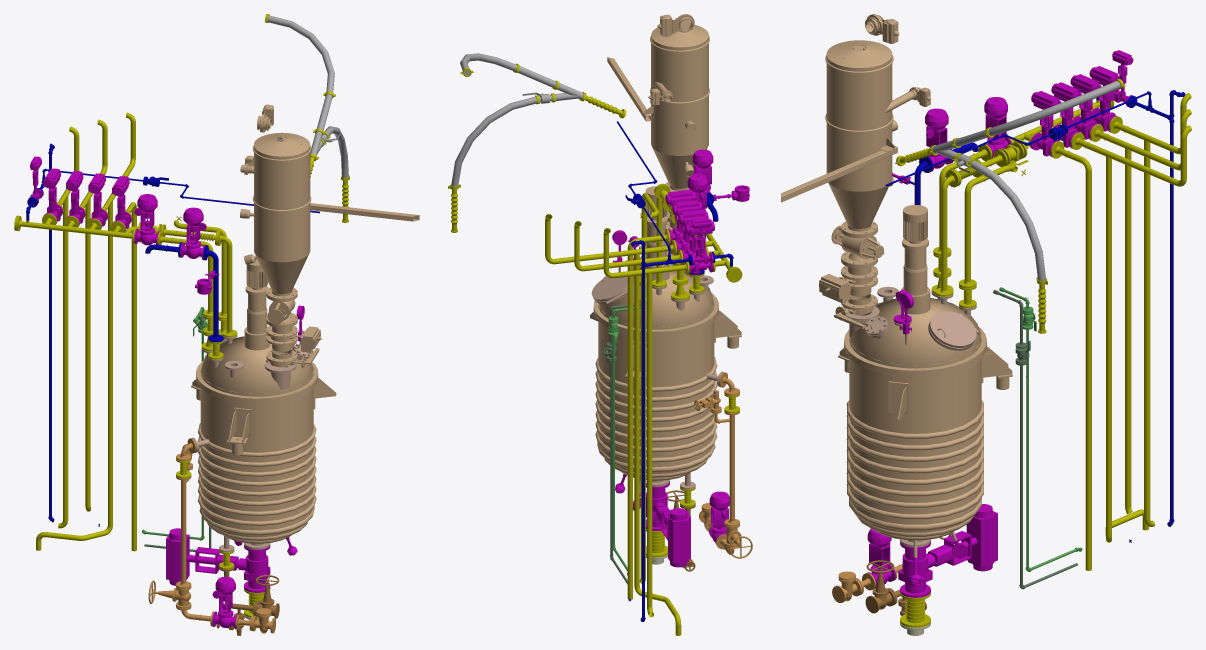
The picture shows the model from 3 angles, left to right: view 1: azimuth 30°, elevation 25°; view 2: azimuth 150°, elevation 25°; view 3: azimuth 270°, elevation 25°; orthographic projection. The views are drawn at different scales.
Visible parts, largest first — view 1: CYLINDER 1 of SUBEQUIPMENT 5 of EQUIPMENT /M-5201, /U-5201/B181, DISH 2 of SUBEQUIPMENT 5 of EQUIPMENT /M-5201, /XV-M5201-101, Цилиндр.013, Цилиндр.048, Цилиндр.053, Цилиндр.043, CYLINDER 2 of SUBEQUIPMENT 5 of EQUIPMENT /M-5201, /U-5201/B185, /U-5201/B207, /WCV-M5201-01 (+20 smaller); view 2: CYLINDER 1 of SUBEQUIPMENT 5 of EQUIPMENT /M-5201, /U-5201/B181, DISH 2 of SUBEQUIPMENT 5 of EQUIPMENT /M-5201, /XV-M5201-101, Цилиндр.013, Цилиндр.048, Цилиндр.043, Цилиндр.058, ELBOW 1 of BRANCH /65-DRY-U5201-201-1.6B5/B1, CYLINDER 2 of SUBEQUIPMENT 5 of EQUIPMENT /M-5201, Цилиндр.053, /U-5201/B185 (+17 smaller); view 3: CYLINDER 1 of SUBEQUIPMENT 5 of EQUIPMENT /M-5201, /U-5201/B181, DISH 2 of SUBEQUIPMENT 5 of EQUIPMENT /M-5201, /XV-M5201-101, Цилиндр.013, Цилиндр.048, Цилиндр.053, Цилиндр.043, CYLINDER 2 of SUBEQUIPMENT 5 of EQUIPMENT /M-5201, /U-5201/B185, Цилиндр.058, /M5201/M1 (+32 smaller).
Part boxes in pixels (x1=…): CYLINDER 1 of SUBEQUIPMENT 5 of EQUIPMENT /M-5201: x1=200, y1=366, x2=313, y2=529; /U-5201/B181: x1=254, y1=152, x2=310, y2=262; DISH 2 of SUBEQUIPMENT 5 of EQUIPMENT /M-5201: x1=200, y1=336, x2=313, y2=393; /XV-M5201-101: x1=166, y1=528, x2=270, y2=592; Цилиндр.013: x1=131, y1=210, x2=136, y2=551; Цилиндр.048: x1=63, y1=201, x2=68, y2=521; Цилиндр.053: x1=85, y1=203, x2=90, y2=506; Цилиндр.043: x1=108, y1=206, x2=112, y2=526; CYLINDER 2 of SUBEQUIPMENT 5 of EQUIPMENT /M-5201: x1=196, y1=360, x2=318, y2=403; /U-5201/B185: x1=255, y1=253, x2=309, y2=294; /U-5201/B207: x1=254, y1=132, x2=310, y2=156; /WCV-M5201-01: x1=134, y1=194, x2=159, y2=245; CYLINDER 1 of SUBEQUIPMENT 5 of EQUIPMENT /M-5201: x1=598, y1=298, x2=714, y2=465; /U-5201/B181: x1=651, y1=31, x2=708, y2=155; DISH 2 of SUBEQUIPMENT 5 of EQUIPMENT /M-5201: x1=599, y1=268, x2=714, y2=327; /XV-M5201-101: x1=646, y1=482, x2=690, y2=567; Цилиндр.013: x1=627, y1=249, x2=632, y2=599; Цилиндр.048: x1=647, y1=277, x2=652, y2=606; Цилиндр.043: x1=634, y1=258, x2=639, y2=587; Цилиндр.058: x1=642, y1=269, x2=644, y2=618; ELBOW 1 of BRANCH /65-DRY-U5201-201-1.6B5/B1: x1=451, y1=96, x2=536, y2=186; CYLINDER 2 of SUBEQUIPMENT 5 of EQUIPMENT /M-5201: x1=593, y1=292, x2=718, y2=337; Цилиндр.053: x1=640, y1=268, x2=645, y2=578; /U-5201/B185: x1=652, y1=147, x2=707, y2=188; CYLINDER 1 of SUBEQUIPMENT 5 of EQUIPMENT /M-5201: x1=849, y1=334, x2=981, y2=523; /U-5201/B181: x1=826, y1=49, x2=892, y2=191; DISH 2 of SUBEQUIPMENT 5 of EQUIPMENT /M-5201: x1=850, y1=298, x2=980, y2=365; /XV-M5201-101: x1=898, y1=504, x2=997, y2=597; Цилиндр.013: x1=1085, y1=170, x2=1091, y2=570; Цилиндр.048: x1=1144, y1=145, x2=1150, y2=519; Цилиндр.053: x1=1125, y1=153, x2=1131, y2=507; Цилиндр.043: x1=1106, y1=161, x2=1111, y2=536; CYLINDER 2 of SUBEQUIPMENT 5 of EQUIPMENT /M-5201: x1=844, y1=327, x2=986, y2=376; /U-5201/B185: x1=828, y1=181, x2=891, y2=228; Цилиндр.058: x1=1170, y1=122, x2=1173, y2=520; /M5201/M1: x1=928, y1=311, x2=979, y2=350.
Size of the model in its own units: 3.86 by 6.27 by 3.79.
